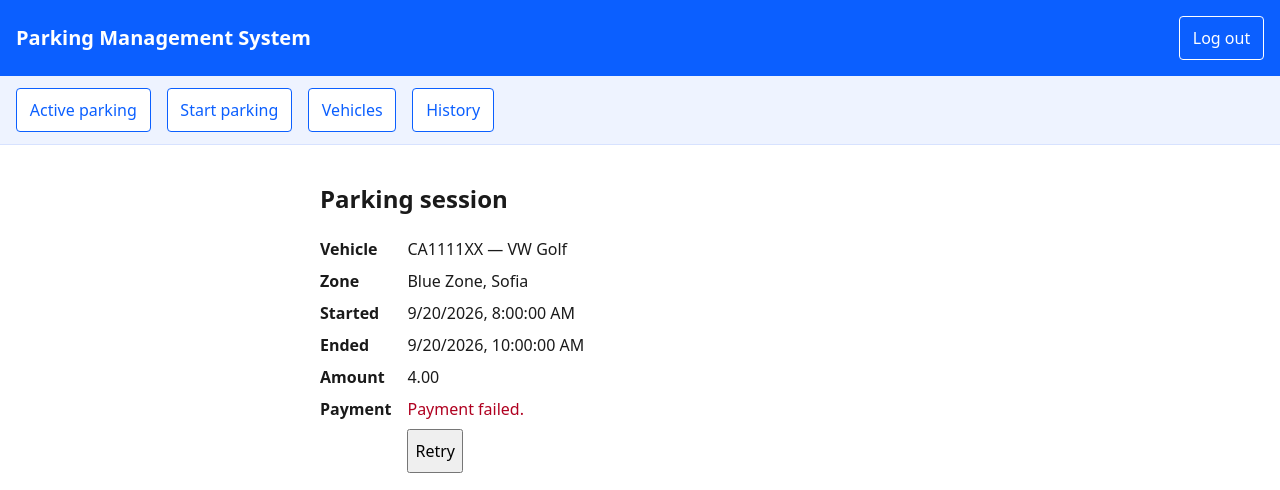
Test case: SessionDetailPage payment › a mocked FAILED status offers Retry, and tapping it posts the payment endpoint again and returns to the pending state
Expected: the text "Payment failed." is shown, x1=408 y1=397 x2=524 y2=421
What coordinates should you click on to do the following:
click the button "Retry"
I would click on:
 (435, 451)
Its box is x1=408 y1=429 x2=463 y2=473.
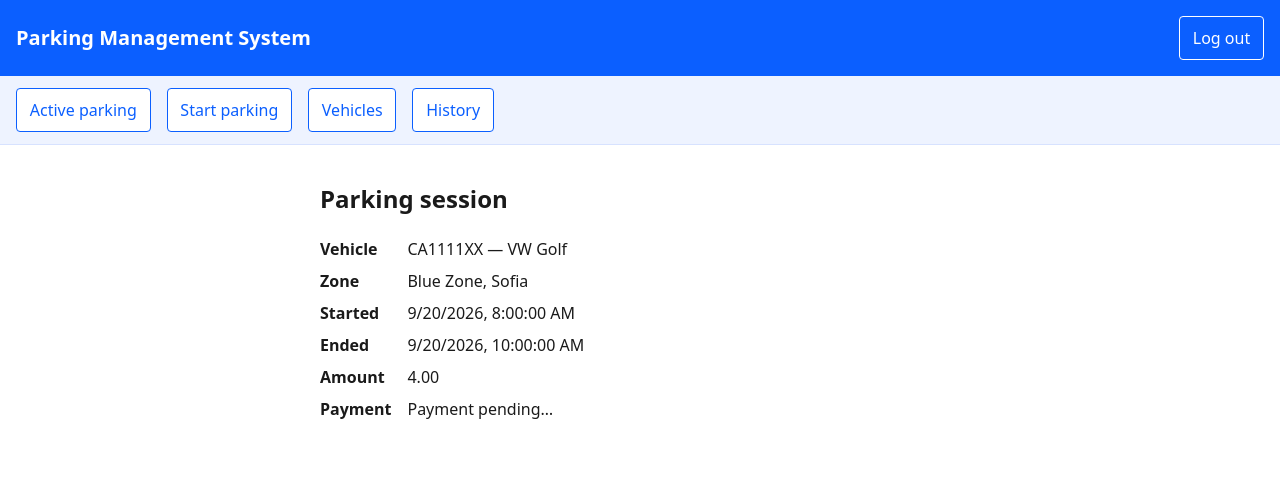
Expected: the text "Payment pending…" is shown, x1=408 y1=398 x2=553 y2=420
